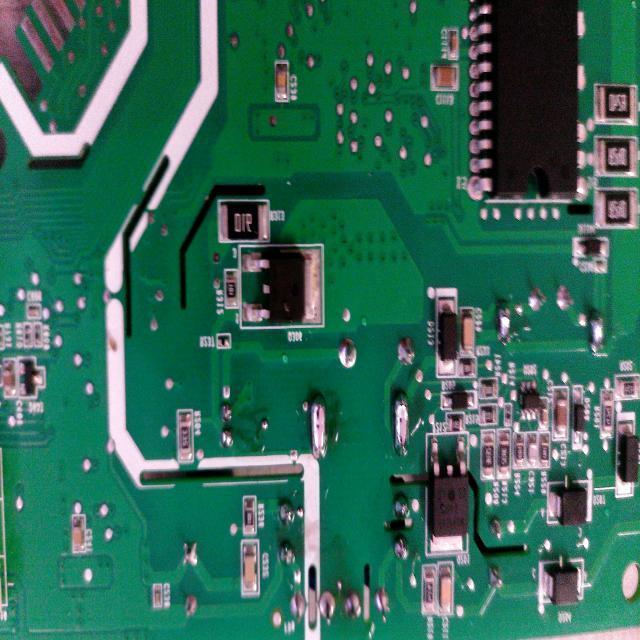Soldering bridge: (306, 392, 330, 465), (491, 295, 516, 355), (392, 390, 410, 460), (585, 310, 607, 363)
